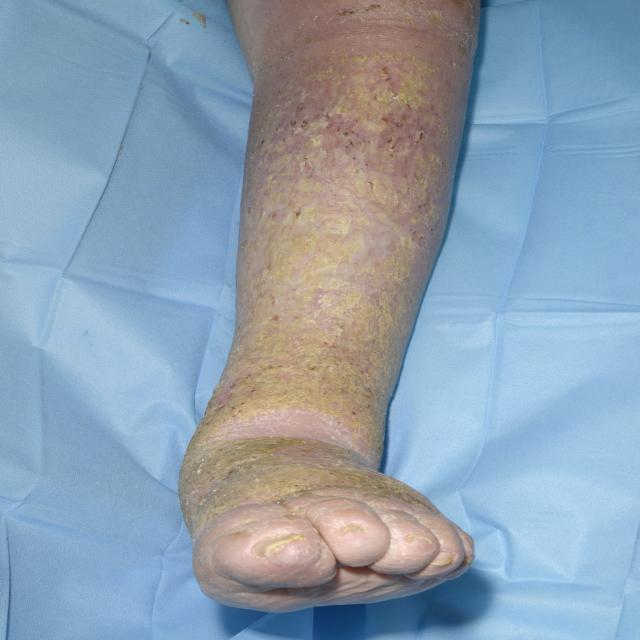wound: (256, 15, 418, 392)
